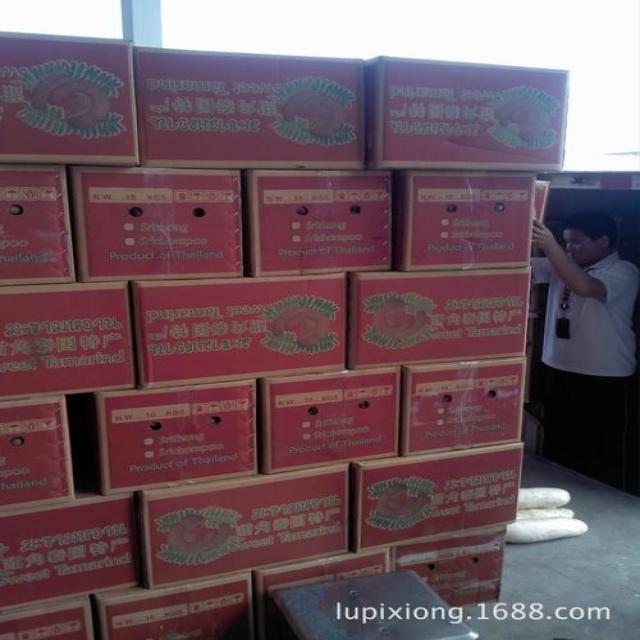box: (136, 46, 366, 169), (136, 463, 349, 589), (129, 272, 346, 390), (366, 56, 571, 172), (68, 167, 243, 282), (349, 442, 524, 554), (0, 31, 141, 165), (95, 379, 257, 495), (347, 268, 531, 369), (0, 480, 141, 610), (0, 282, 136, 401), (241, 169, 392, 276), (261, 367, 401, 474), (269, 570, 477, 639), (393, 171, 536, 271), (253, 548, 392, 639), (401, 357, 527, 456), (92, 572, 255, 639), (390, 525, 508, 607), (0, 164, 77, 287), (0, 396, 77, 510), (0, 594, 95, 639), (536, 178, 550, 221)
